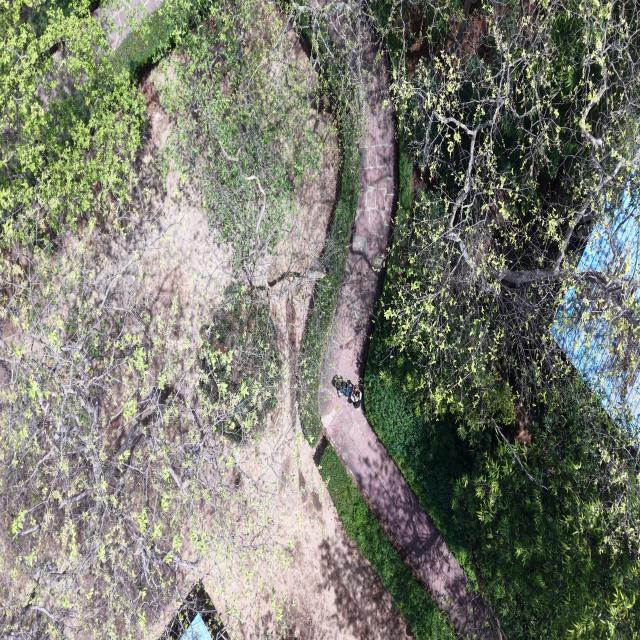DRY_AREA: (0, 65, 409, 639), (320, 65, 498, 639), (172, 374, 409, 639), (176, 382, 409, 639), (321, 363, 499, 639), (236, 406, 410, 639), (93, 0, 163, 50)
PATHWAYS: (319, 43, 500, 639)
ROOFTOP_BUILDING: (553, 193, 639, 435), (161, 582, 228, 639), (181, 613, 212, 639)
VEGETATION_TREE: (0, 0, 639, 639), (0, 3, 355, 638), (0, 2, 282, 638), (366, 2, 639, 637), (0, 212, 280, 637), (385, 0, 639, 430), (298, 5, 454, 639), (366, 318, 638, 637), (453, 381, 639, 638), (162, 3, 321, 279), (286, 3, 385, 445), (0, 0, 144, 249), (319, 445, 455, 639), (297, 121, 359, 446), (200, 283, 282, 440), (93, 0, 212, 81), (114, 0, 209, 80), (162, 581, 228, 639)
